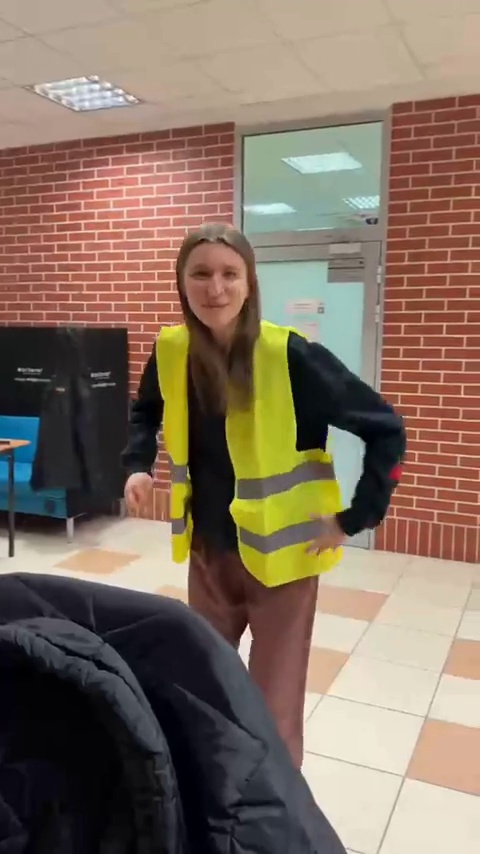vest: (130, 205, 407, 740)
